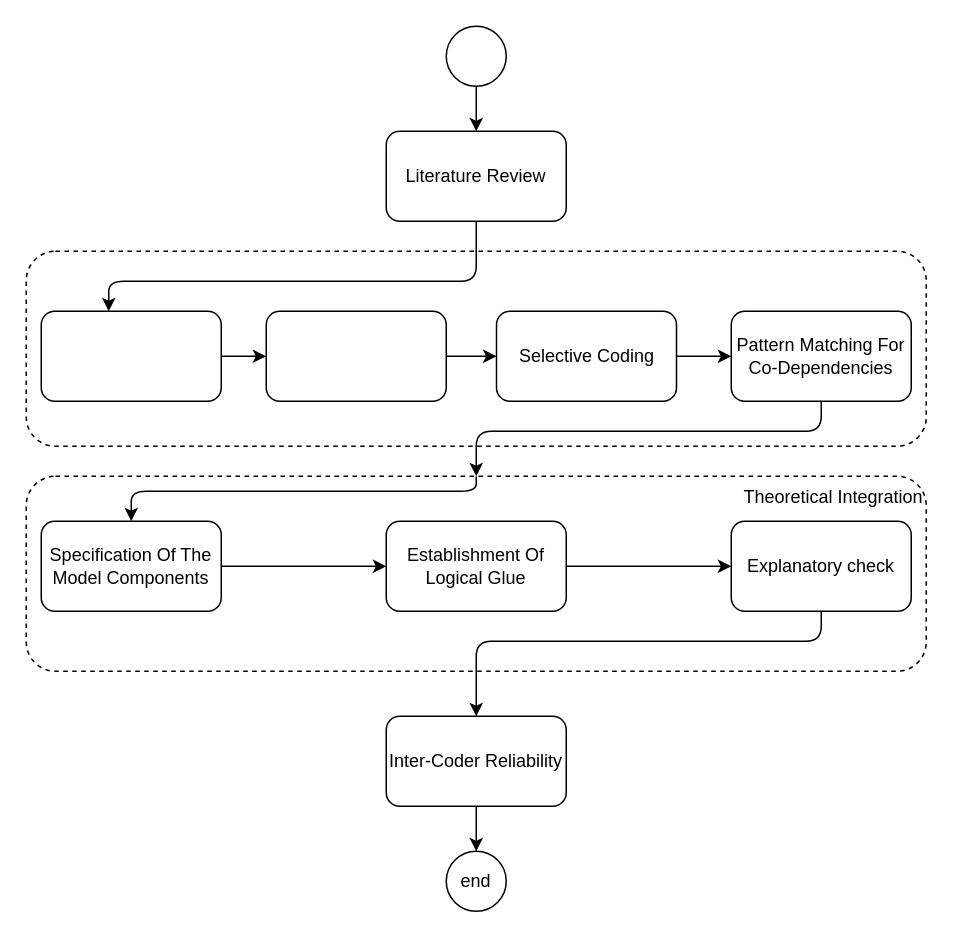
Image size: 953x938. Some labels were removed from this diagram. Each missing label, with the box of its shape:
Axial C oding: (265, 310, 446, 401)
Content Analysis: (25, 250, 926, 446)
Open C oding: (40, 310, 221, 401)
start: (445, 25, 506, 86)
